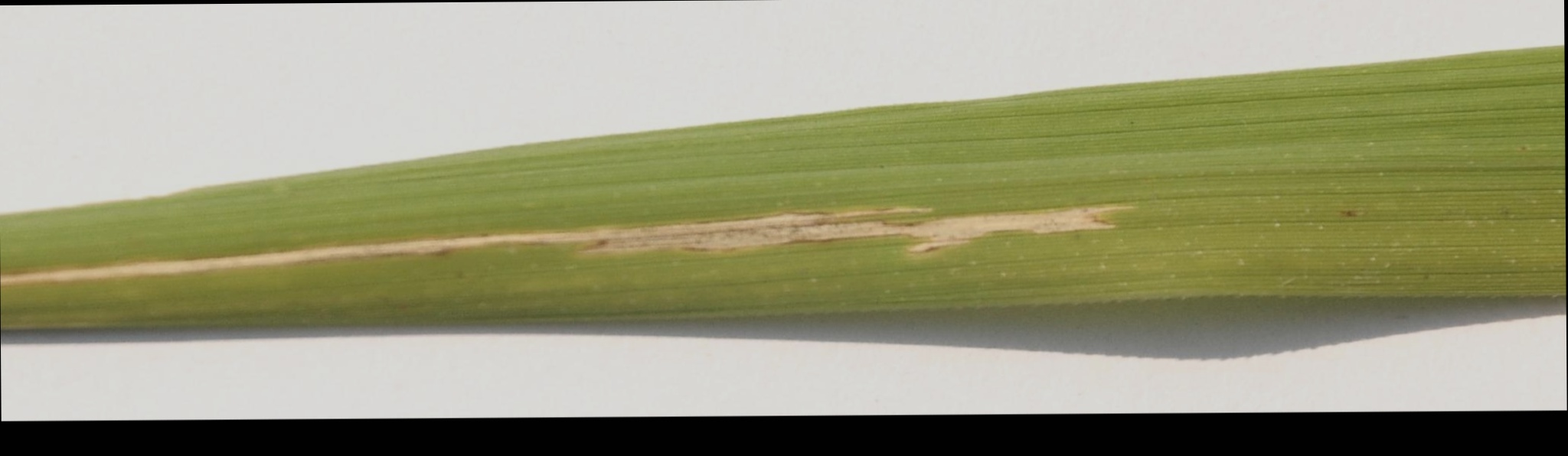Leaf_Blast: (113, 185, 1152, 280)
